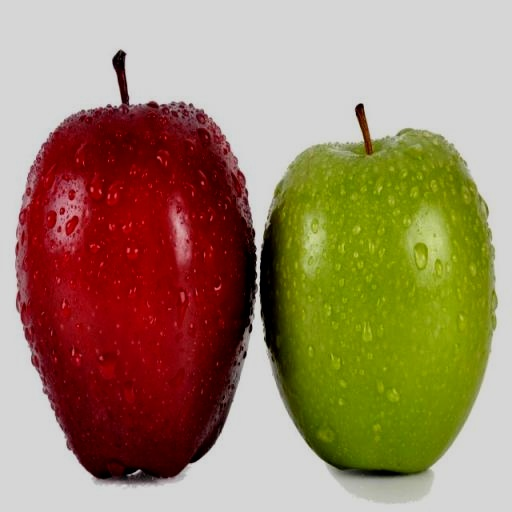fruit: (16, 52, 255, 476), (261, 106, 496, 472)
